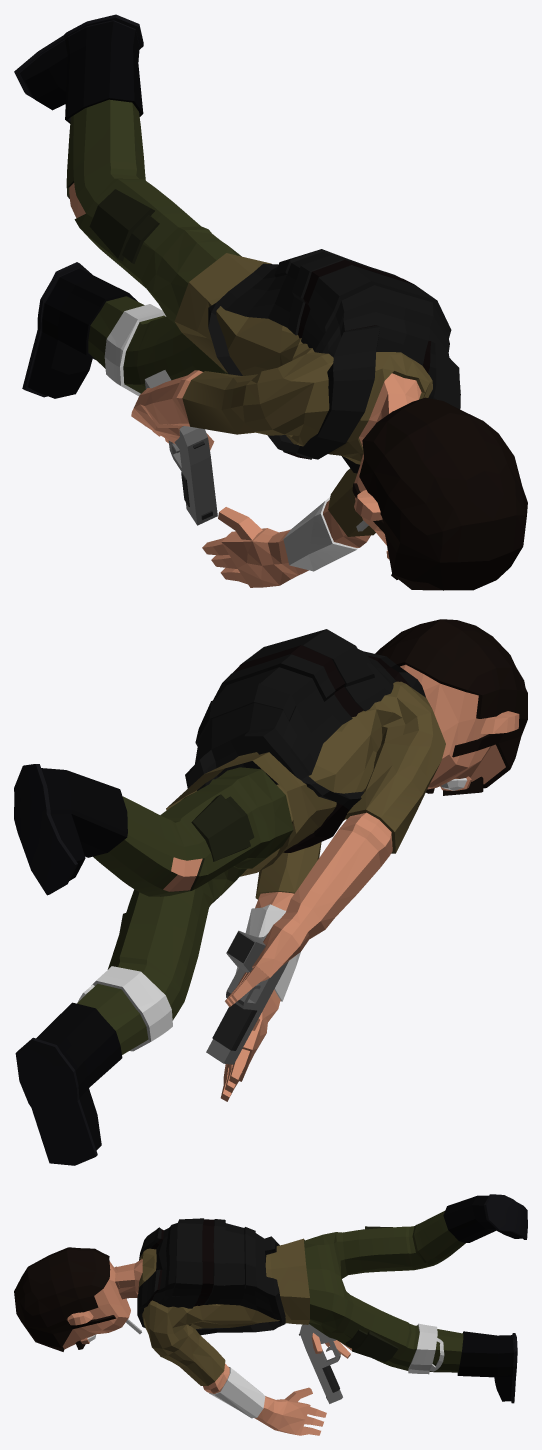
The model's file is frame_0029.obj.
The picture shows the model from 3 angles, top to bottom: view 1: azimuth 30°, elevation 25°; view 2: azimuth 150°, elevation 25°; view 3: azimuth 270°, elevation 25°; orthographic projection. The views are drawn at different scales.
Parts seen in each view (by area): view 1: Body, Gun; view 2: Body, Gun; view 3: Body, Gun.
Part boxes in pixels (<box>): Body: <box>14,14,527,590</box>; Gun: <box>144,370,217,525</box>; Body: <box>14,619,527,1165</box>; Gun: <box>206,930,288,1064</box>; Body: <box>14,1194,527,1435</box>; Gun: <box>299,1324,342,1403</box>.
Bounding box in the file's own units: 1.14 × 2.28 × 4.19.
